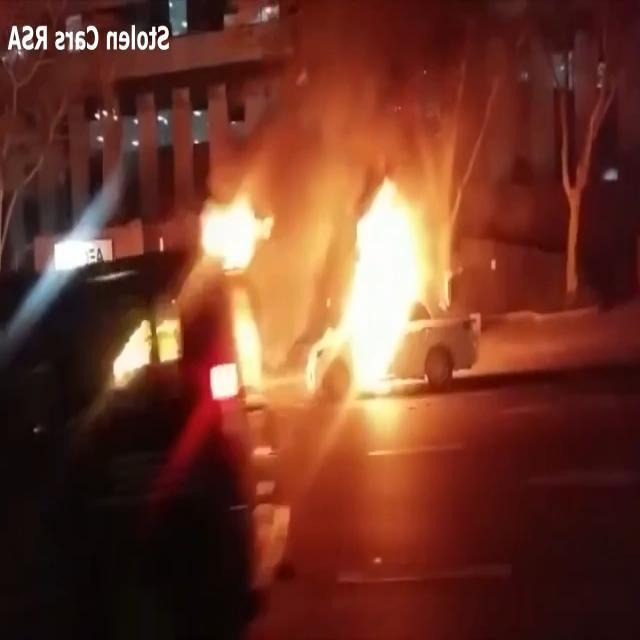fire: (334, 165, 426, 381), (200, 179, 270, 276)
